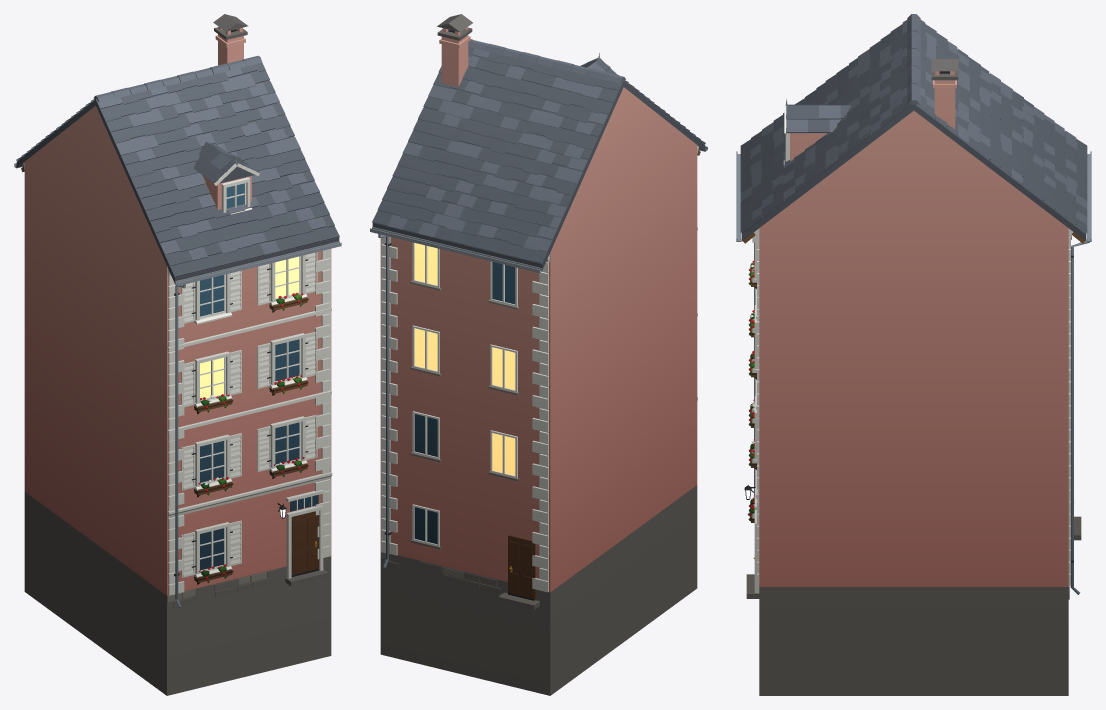
Rendered from TownHouse_B.fbx.
3 views of the same model, side by side, from view 1: azimuth 30°, elevation 25°; view 2: azimuth 150°, elevation 25°; view 3: azimuth 270°, elevation 25° (orthographic). The views are drawn at different scales.
Visible parts, largest first — view 1: TownHouse_B_LOD0; view 2: TownHouse_B_LOD0; view 3: TownHouse_B_LOD0.
Boxes of the visible parts, x1,y1,x2,y2 form: TownHouse_B_LOD0: (14, 14, 341, 695); TownHouse_B_LOD0: (370, 14, 707, 695); TownHouse_B_LOD0: (736, 14, 1091, 695).
Size of what is drawn, in the model's own units: 6 by 20.18 by 10.32.
Materials: 1 (1 with a texture image).
